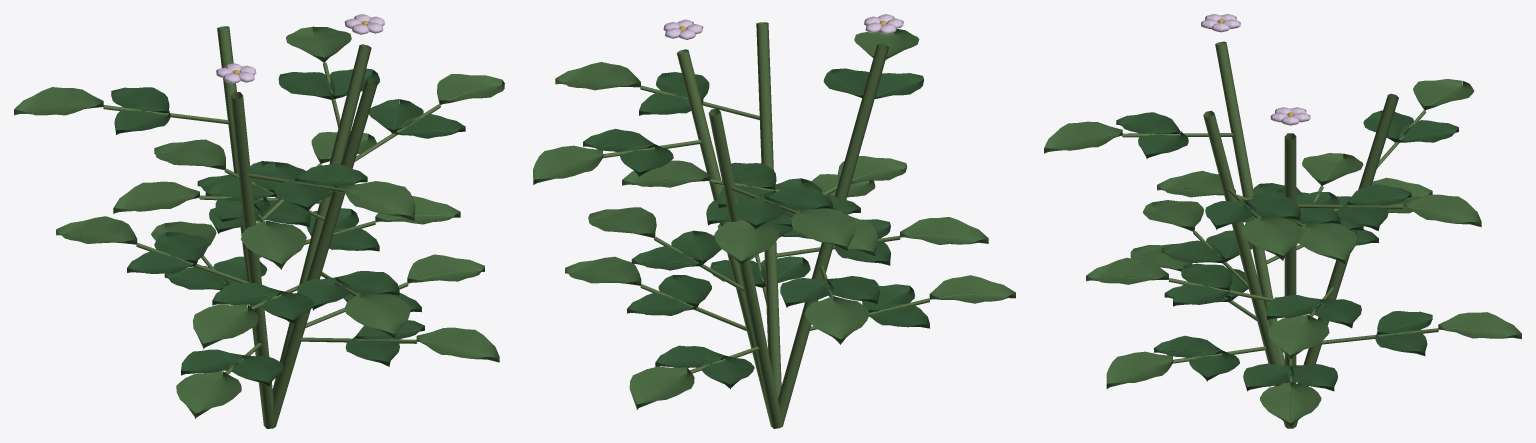
The model's file is papa.glb.
3 views of the same model, side by side, from view 1: azimuth 30°, elevation 25°; view 2: azimuth 150°, elevation 25°; view 3: azimuth 270°, elevation 25° (orthographic). The views are drawn at different scales.
Parts seen in each view (by area): view 1: papa; view 2: papa; view 3: papa.
Part boxes in pixels (bbox=[...]): papa: bbox=[14, 14, 504, 428]; papa: bbox=[533, 14, 1015, 428]; papa: bbox=[1044, 14, 1521, 428].
Bounding box in the file's own units: 0.6572 × 0.6419 × 0.741.
